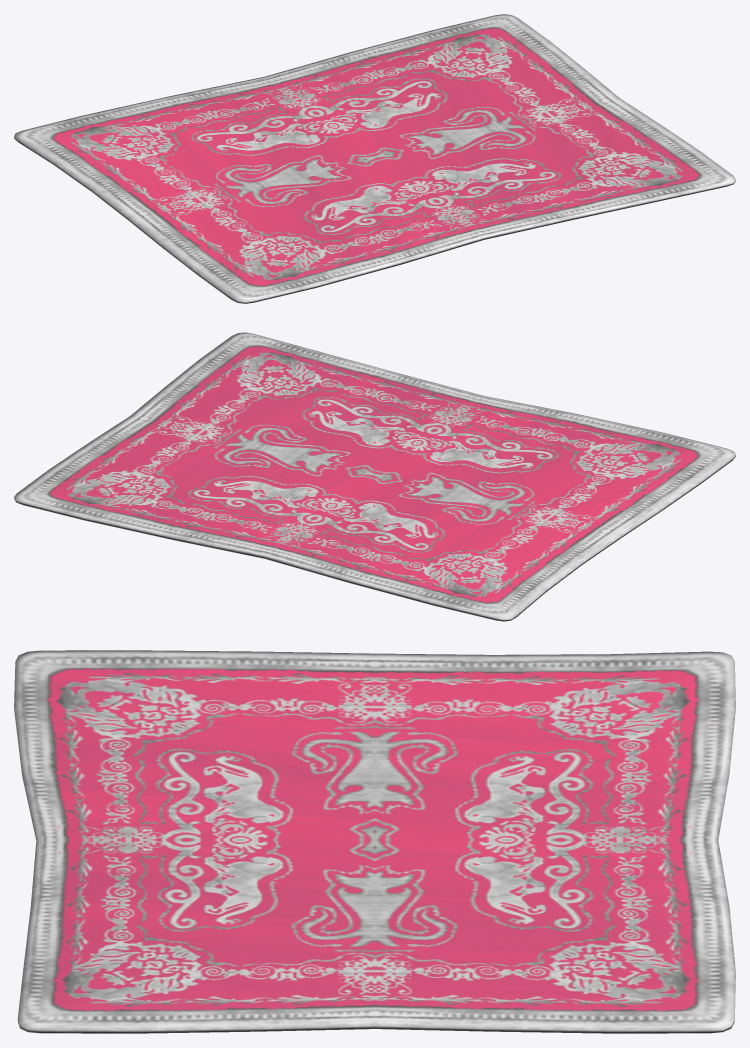
File: QueenCarpet_HD.fbx
The picture shows the model from 3 angles, top to bottom: view 1: azimuth 30°, elevation 25°; view 2: azimuth 150°, elevation 25°; view 3: azimuth 270°, elevation 25°; orthographic projection. The views are drawn at different scales.
Parts seen in each view (by area): view 1: QueenCarpet; view 2: QueenCarpet; view 3: QueenCarpet.
Part boxes in pixels (x1,y1,x2,y2): QueenCarpet: (14,14,735,303); QueenCarpet: (14,332,735,621); QueenCarpet: (14,650,735,1033).
Bounding box in the file's own units: 2.31 × 0.0136 × 1.86.
